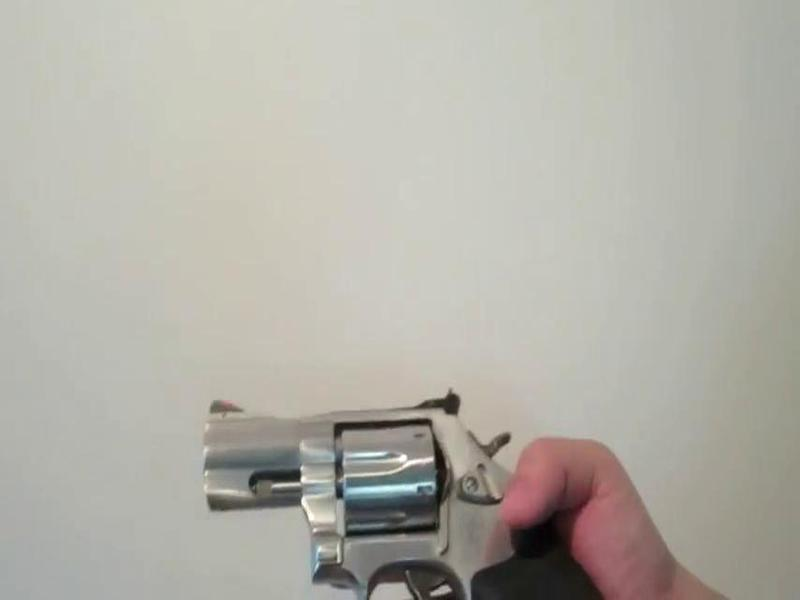Revolver: (185, 376, 626, 600)
